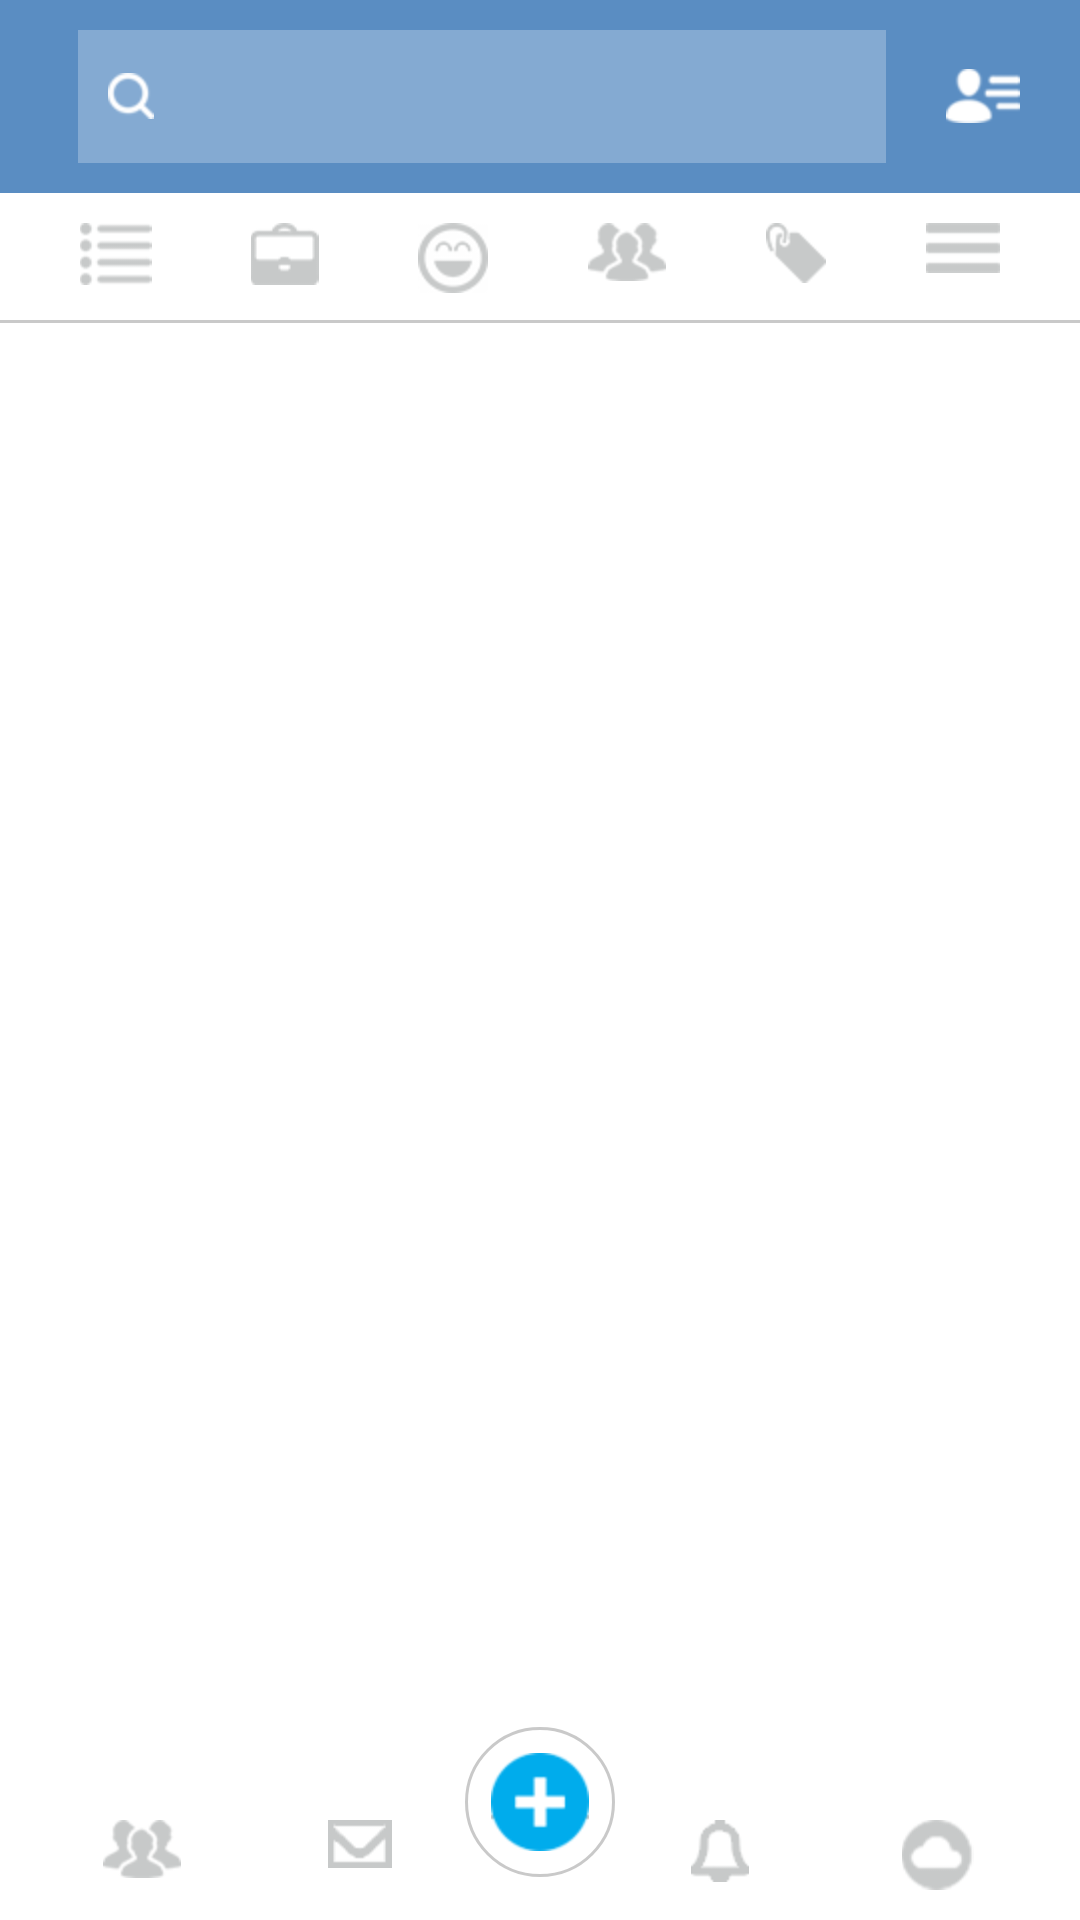

Locate icon controls on the screen. Image size 1080*1920, boxes as box(x1, y1, x2, y2).
bell: box(691, 1820, 749, 1882)
business: box(251, 223, 319, 285)
fun: box(418, 223, 488, 293)
offer: box(766, 223, 826, 283)
plus: box(491, 1753, 589, 1851)
